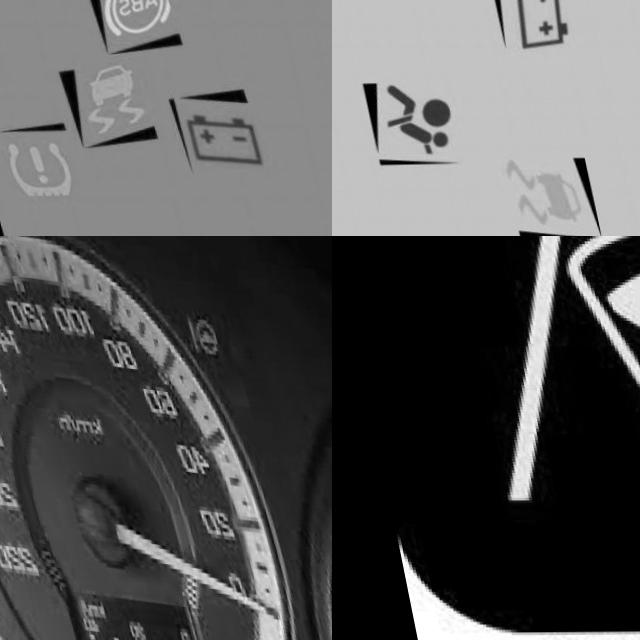Electronic Power Steering: (181, 318, 222, 362)
